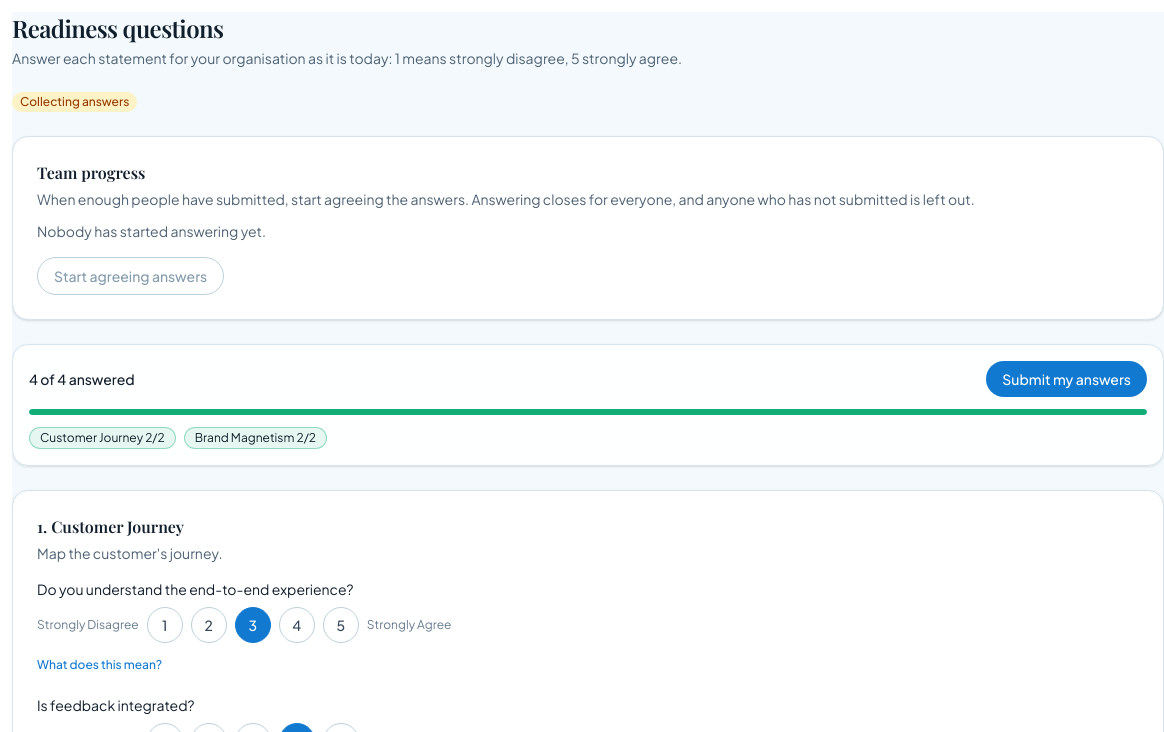
Scenario: QuestionnairePage › submits once every question is answered, after a confirmation
Click the button "Submit my answers" at point(1067, 379), box [986, 361, 1147, 397]
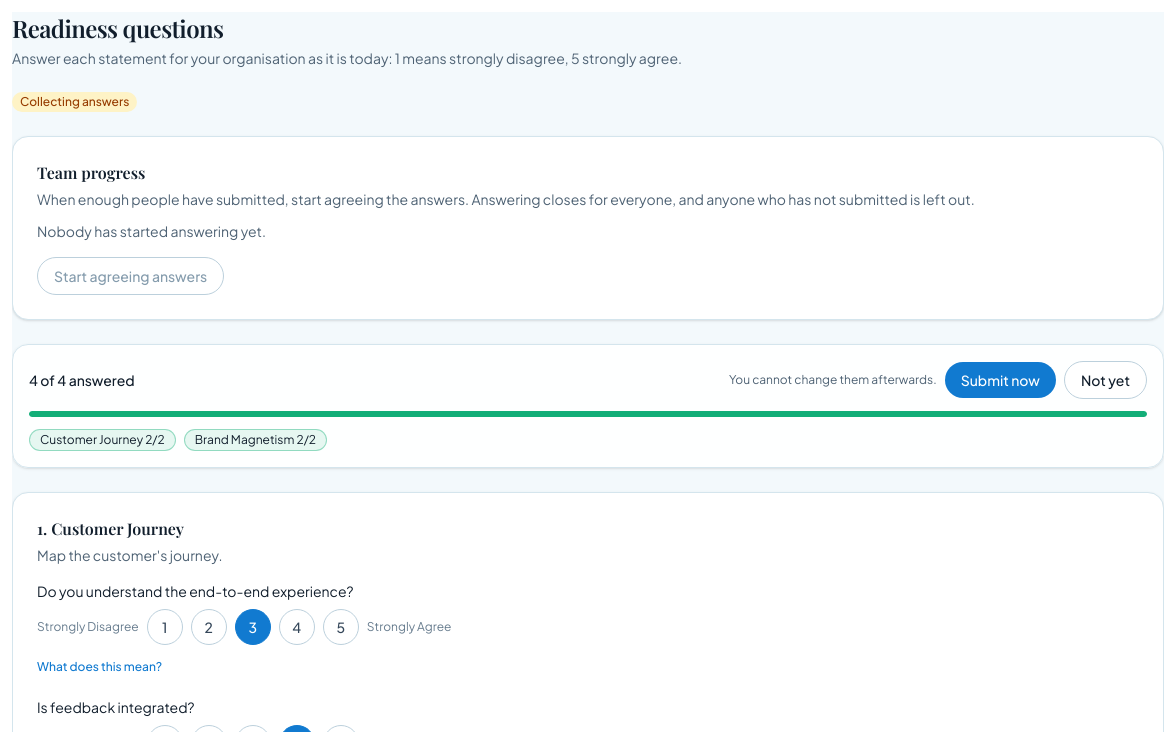
Click the button "Submit now" at point(1000, 380), box [945, 362, 1056, 398]
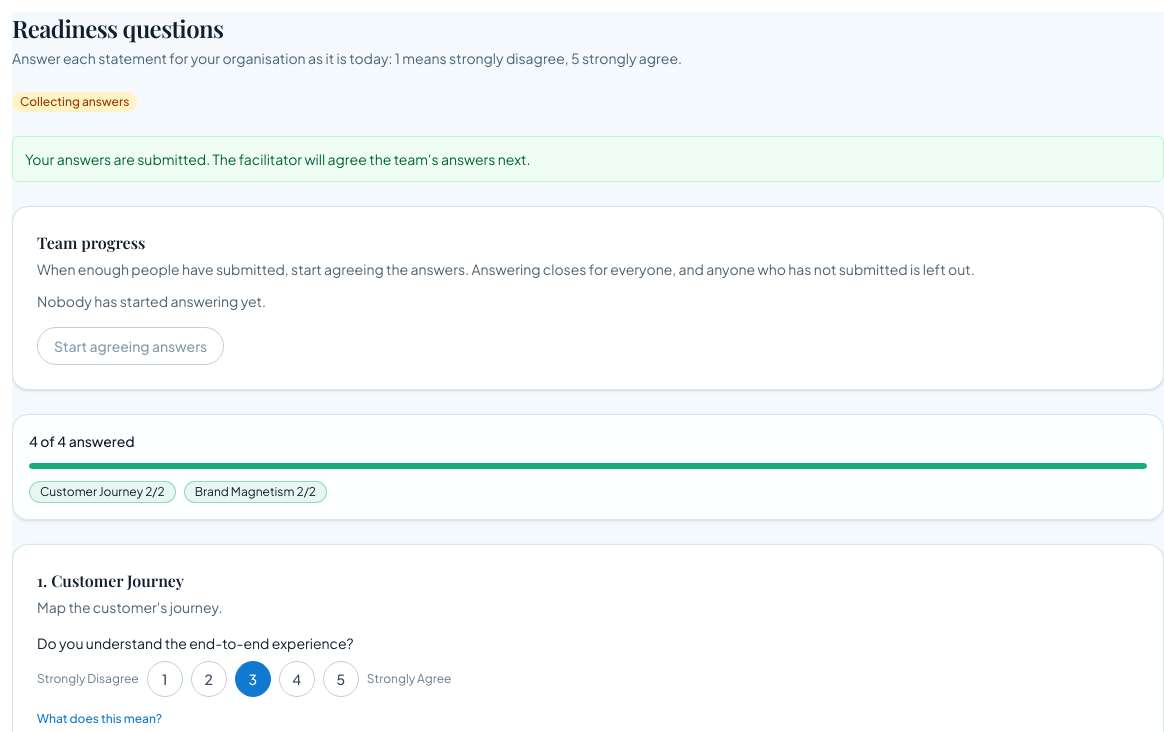
Expected: the text "Your answers are submitted" is shown, [25, 150, 531, 168]
